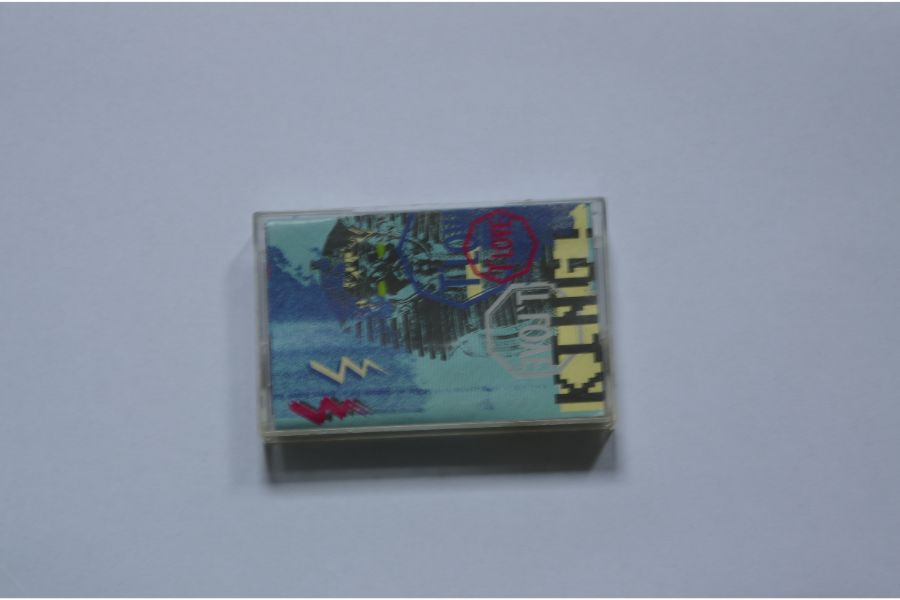album: (248, 197, 625, 440)
